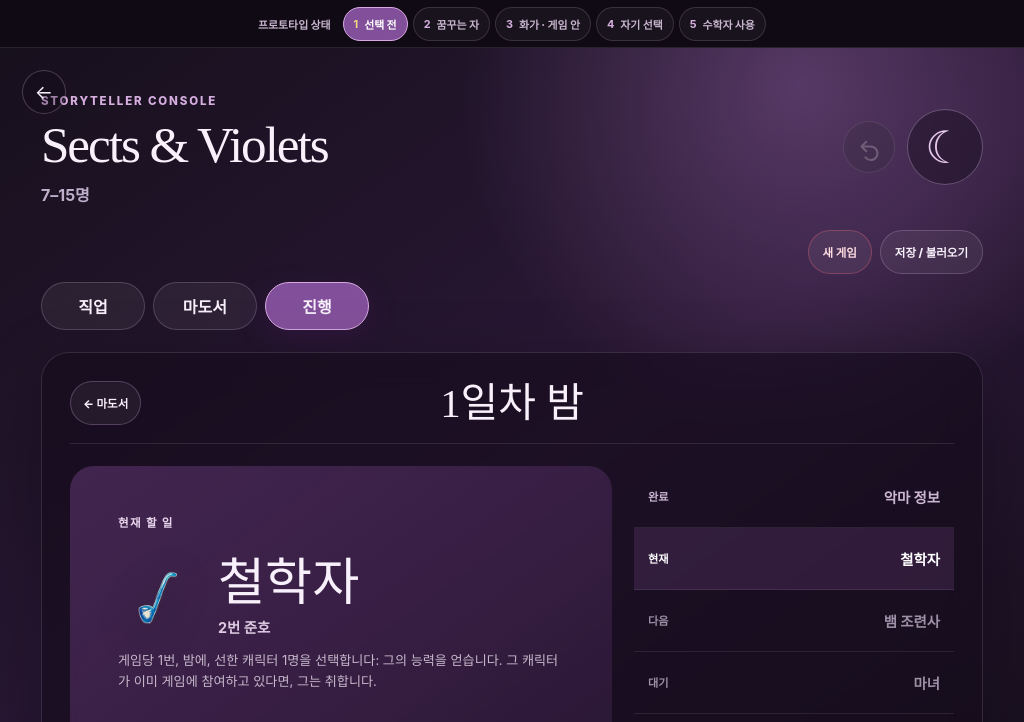
Test: renders self-selection with the same drunk badge and actor layout
Click the button "4 자기 선택".
click(635, 24)  # box top-left (596, 6), bottom-right (674, 40)
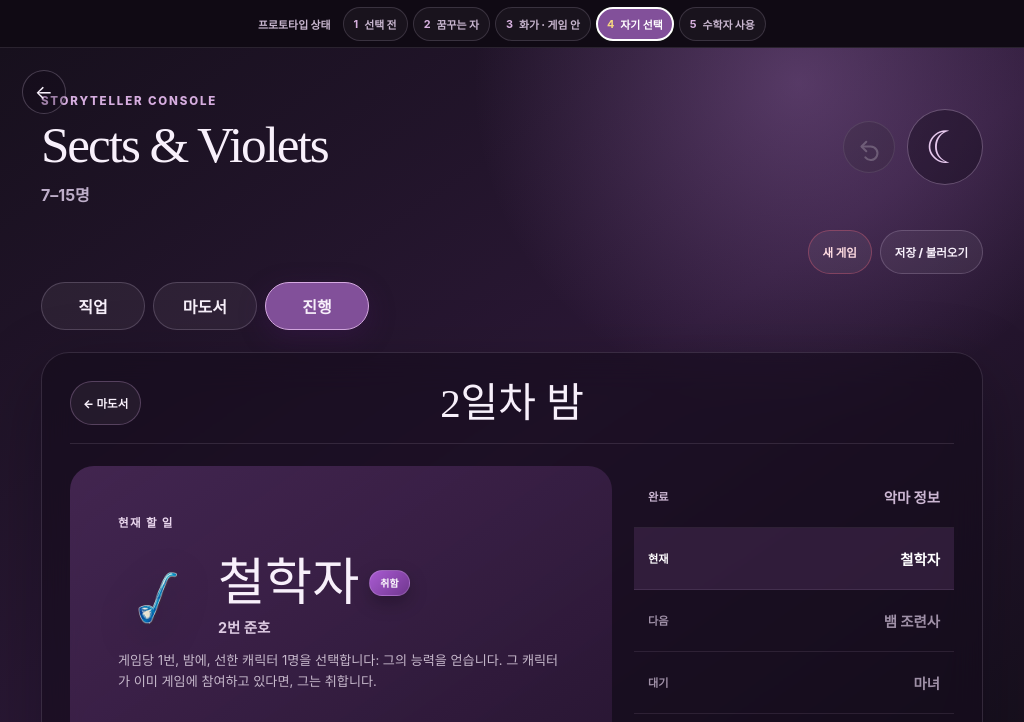
Check: the heading "철학자" is shown, box top-left (218, 557), bottom-right (359, 608)
Check: the text "취함" is shown, box top-left (369, 570), bottom-right (410, 596)
